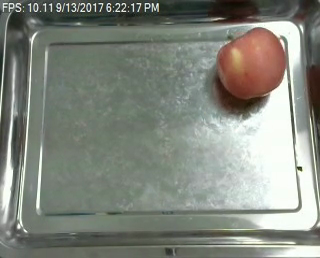Apple: (213, 28, 287, 103)
